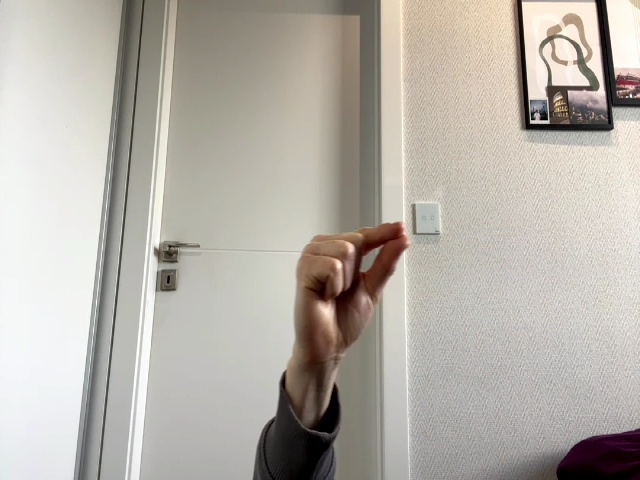P: (293, 222, 411, 369)
